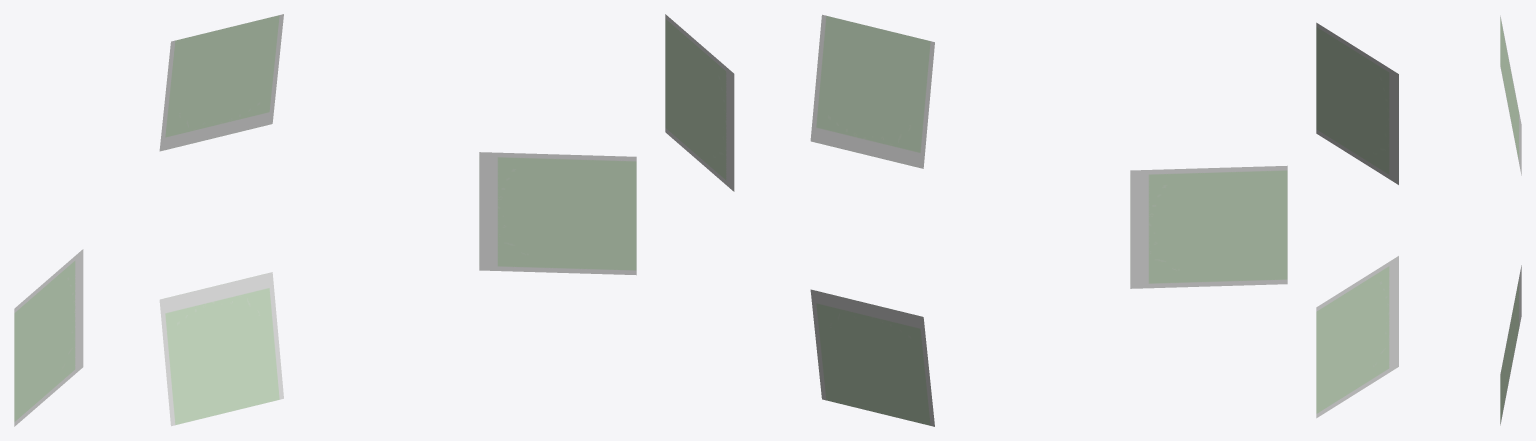
File: tdr_d_room_b_effects.obj
The picture shows the model from 3 angles, left to right: view 1: azimuth 30°, elevation 25°; view 2: azimuth 150°, elevation 25°; view 3: azimuth 270°, elevation 25°; orthographic projection. The views are drawn at different scales.
Visible parts, largest first — view 1: Plane.000_Plane.002, Plane.001; view 2: Plane.000_Plane.002, Plane.001; view 3: Plane.000_Plane.002, Plane.001.
Part boxes in pixels (x1,y1,x2,y2): Plane.000_Plane.002: (14, 14, 283, 426); Plane.001: (479, 152, 636, 275); Plane.000_Plane.002: (810, 14, 1287, 426); Plane.001: (665, 14, 734, 191); Plane.000_Plane.002: (1316, 15, 1521, 425); Plane.001: (1316, 256, 1398, 418).
Bounding box in the file's own units: 5632 × 3328 × 1715.
1 material, 1 textured.
